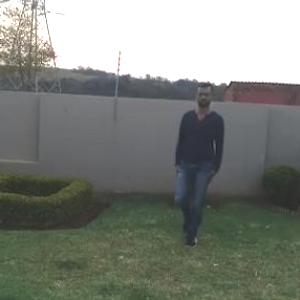follow: (171, 81, 224, 246)
